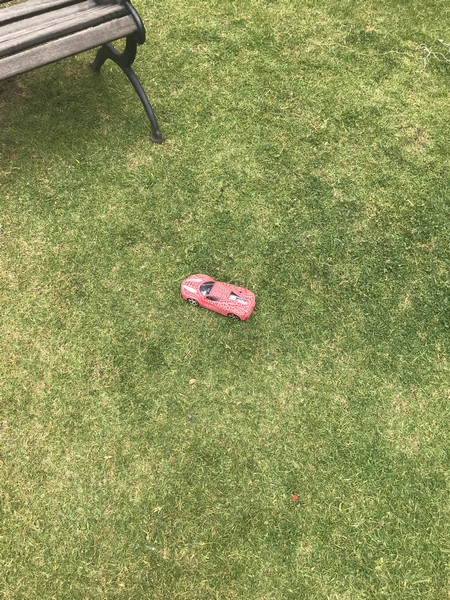RC: (178, 274, 257, 323)
